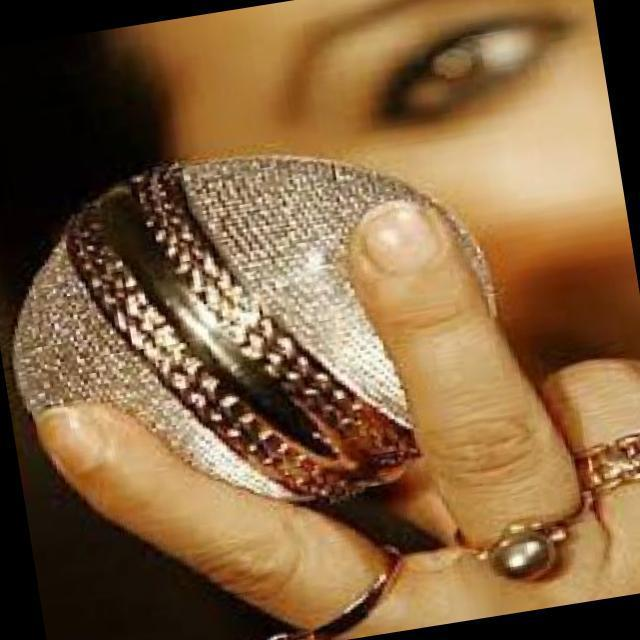-: (23, 150, 518, 579)
